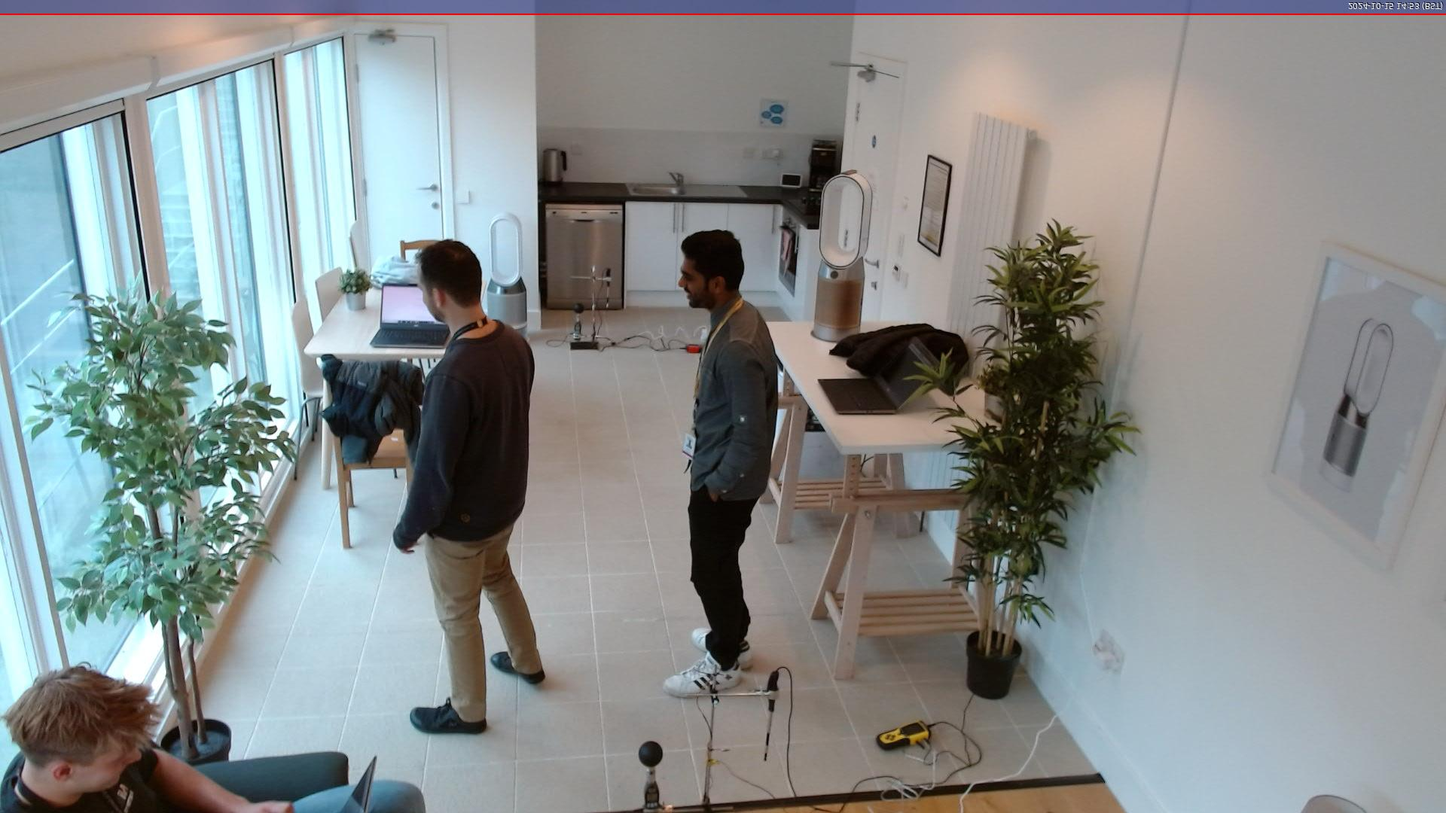long sleeve shirt: (686, 296, 781, 503)
short sleeve shirt: (0, 736, 159, 813)
sweater: (392, 314, 537, 554)
trousers: (426, 521, 544, 728), (686, 492, 759, 670), (277, 778, 429, 813)
